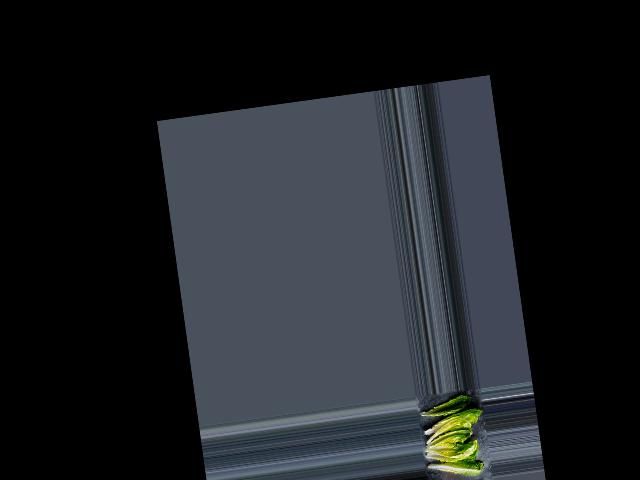lettuce: (416, 395, 471, 420)
